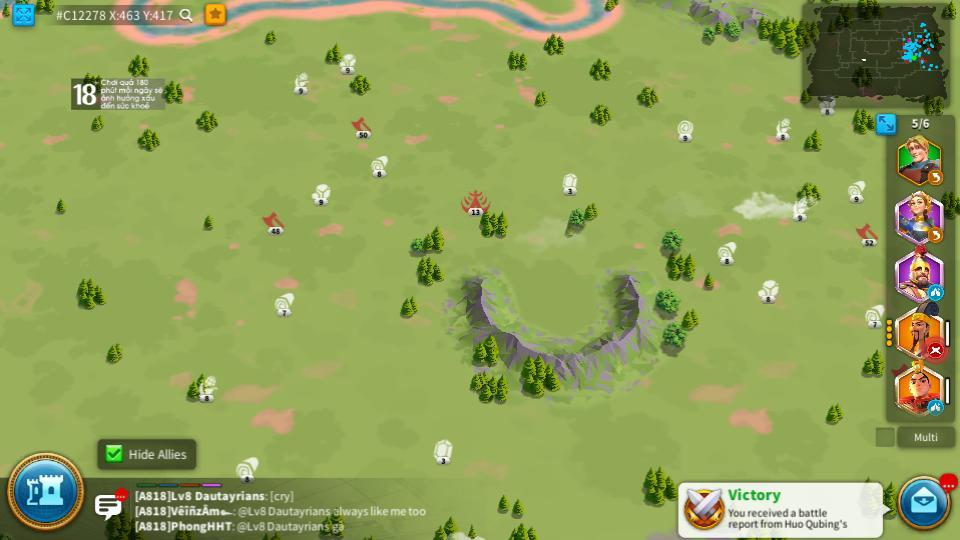gem-z-out: (431, 440, 455, 464), (561, 172, 578, 193)
march_attacking: (929, 346, 943, 357)
march_idle: (927, 401, 944, 413), (929, 284, 942, 297)
march_returning: (927, 170, 944, 185), (929, 229, 942, 242)
